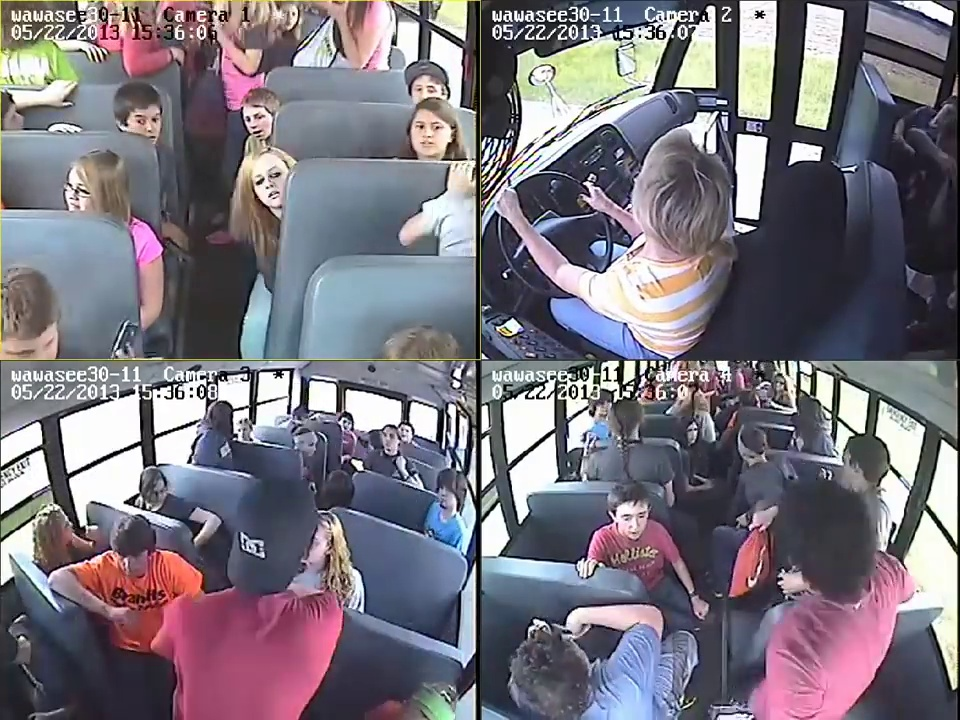face: (410, 110, 451, 155), (251, 159, 283, 207), (61, 174, 99, 210), (405, 71, 443, 105), (243, 103, 276, 141), (131, 103, 164, 140), (616, 503, 645, 538), (114, 549, 143, 576), (51, 516, 75, 541), (144, 480, 166, 505), (433, 483, 454, 508), (296, 436, 317, 457), (378, 432, 397, 449), (234, 423, 250, 441), (595, 398, 611, 415), (684, 424, 697, 442), (398, 424, 413, 439), (773, 379, 786, 394), (339, 415, 352, 428)
